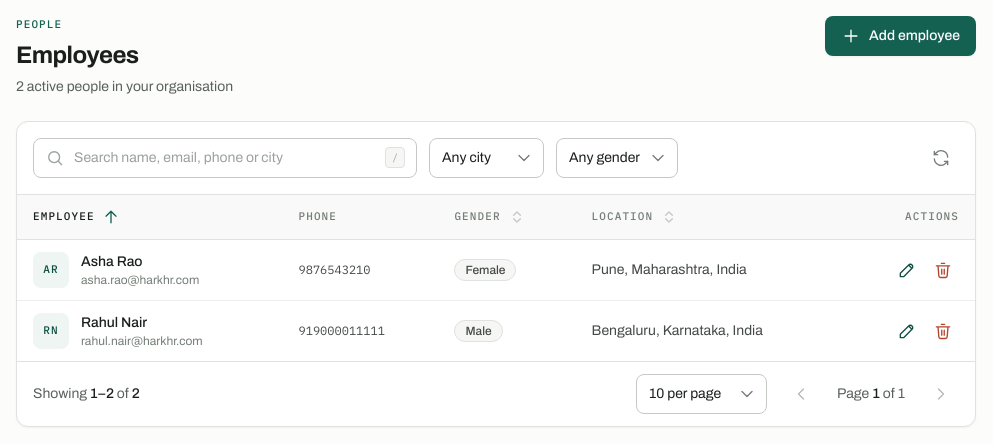
Test: EmployeesPage — searching › filters the visible rows as the user types
Expected: the heading "Employees" is shown, x1=16 y1=42 x2=139 y2=68
Expected: the button "Asha Rao" is shown, x1=81 y1=252 x2=142 y2=272
In the search field labelled "Search name, email, phone or city": x=225, y=158 x1=33 y1=138 x2=417 y2=178, type "bengaluru"
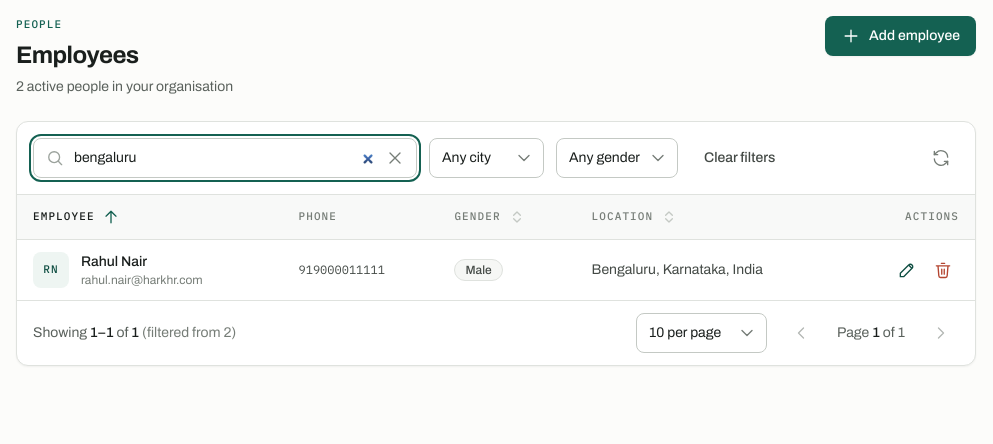
Expected: the button "Rahul Nair" is shown, x1=81 y1=252 x2=147 y2=272
Expected: the button "Asha Rao" is gone
